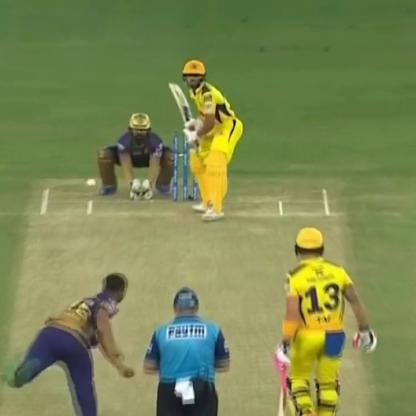ball: (79, 173, 104, 190)
bat: (165, 79, 199, 143)
pitch: (4, 173, 368, 416)
